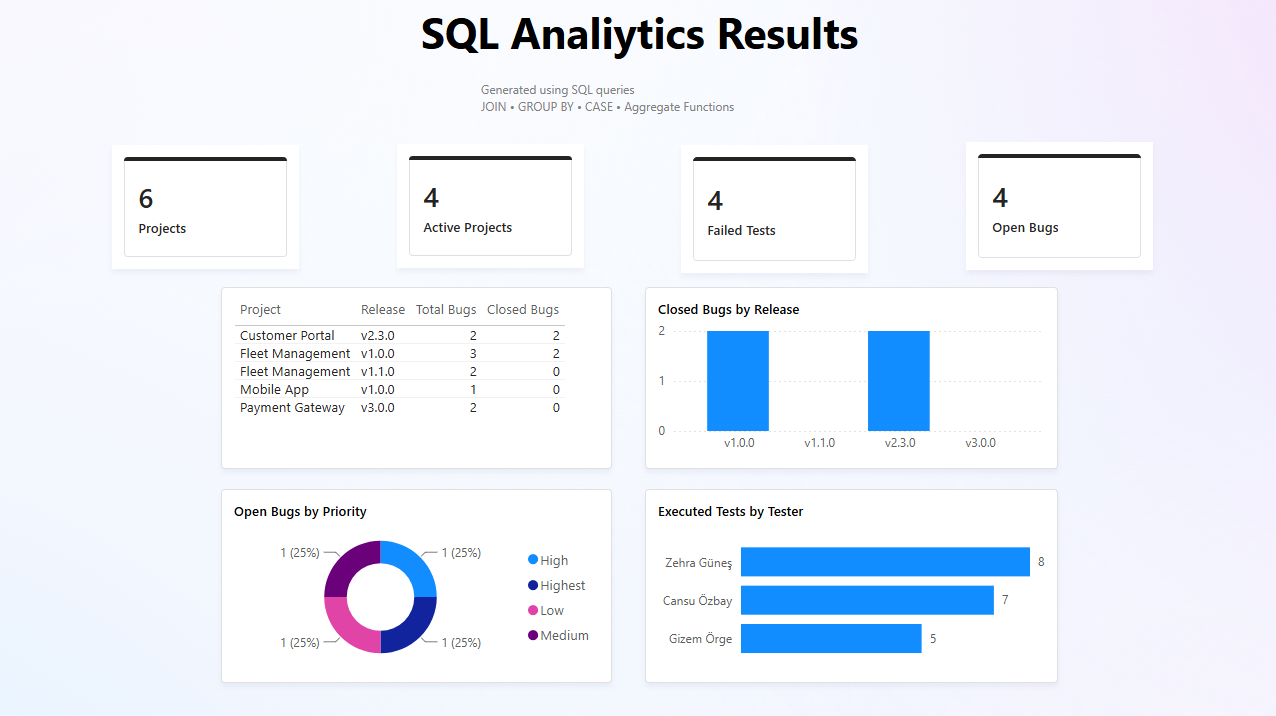

This screenshot's page, from the dashboard's own definition file:
{"tool":"powerbi","page":{"name":"SQL Analytics Results","canvas":[1280,720],"ordinal":2},"visuals":[{"type":"cardVisual","fields":{"Data":["Sum(4.total_projects_sql.total_projects)"]},"box":[113,147,187,124],"z":0},{"type":"cardVisual","fields":{"Data":["Sum(5.active_projects_sql.active_projects)"]},"box":[397.7,145.7,187,124],"z":1000},{"type":"cardVisual","fields":{"Data":["CountNonNull(6.open_bugs_sql.bug_id)"]},"box":[967,144.3,187,128],"z":2000},{"type":"cardVisual","fields":{"Data":["CountNonNull(7.failed_TestCases_sql.title)"]},"box":[682.3,147,187,128],"z":3000},{"type":"textbox","box":[410.5,0,459,77],"z":4000},{"type":"donutChart","title":"Open Bugs by Priority","fields":{"Category":["6.open_bugs_sql.priority"],"Y":["CountNonNull(6.open_bugs_sql.bug_id)"]},"box":[221.5,491,391,194],"z":5000},{"type":"tableEx","fields":{"Values":["9.total_closed_bugs_by_release_sql.Project","9.total_closed_bugs_by_release_sql.Release","Avg(9.total_closed_bugs_by_release_sql.Total_Bugs)","Avg(9.total_closed_bugs_by_release_sql.Closed_Bugs)"]},"box":[221.5,289,391,182],"z":6000},{"type":"clusteredBarChart","fields":{"Category":["8.tester_execution_count_sql.full_name"],"Y":["Max(8.tester_execution_count_sql.executed_tests)"]},"box":[645.5,491,413,194],"z":7000},{"type":"textbox","box":[477,77,325,49],"z":8000},{"type":"columnChart","fields":{"Category":["9.total_closed_bugs_by_release_sql.Release"],"Y":["Max(9.total_closed_bugs_by_release_sql.Closed_Bugs)"]},"box":[646,289,413,182],"z":9000}]}

Visuals, with their boxes in screenshot pixels (x1, y1, x2, y2), scaled from the page's 1280x720 canvas onto the 1276x716 screenshot:
cardVisual - Sum(4.total_projects_sql.total_projects): (x1=113, y1=146, x2=299, y2=269)
cardVisual - Sum(5.active_projects_sql.active_projects): (x1=396, y1=145, x2=583, y2=268)
cardVisual - CountNonNull(6.open_bugs_sql.bug_id): (x1=964, y1=143, x2=1150, y2=271)
cardVisual - CountNonNull(7.failed_TestCases_sql.title): (x1=680, y1=146, x2=867, y2=273)
textbox: (x1=409, y1=0, x2=867, y2=77)
"Open Bugs by Priority" donutChart: (x1=221, y1=488, x2=611, y2=681)
tableEx - 9.total_closed_bugs_by_release_sql.Project x 9.total_closed_bugs_by_release_sql.Release: (x1=221, y1=287, x2=611, y2=468)
clusteredBarChart - 8.tester_execution_count_sql.full_name x Max(8.tester_execution_count_sql.executed_tests): (x1=643, y1=488, x2=1055, y2=681)
textbox: (x1=476, y1=77, x2=799, y2=125)
columnChart - 9.total_closed_bugs_by_release_sql.Release x Max(9.total_closed_bugs_by_release_sql.Closed_Bugs): (x1=644, y1=287, x2=1056, y2=468)
